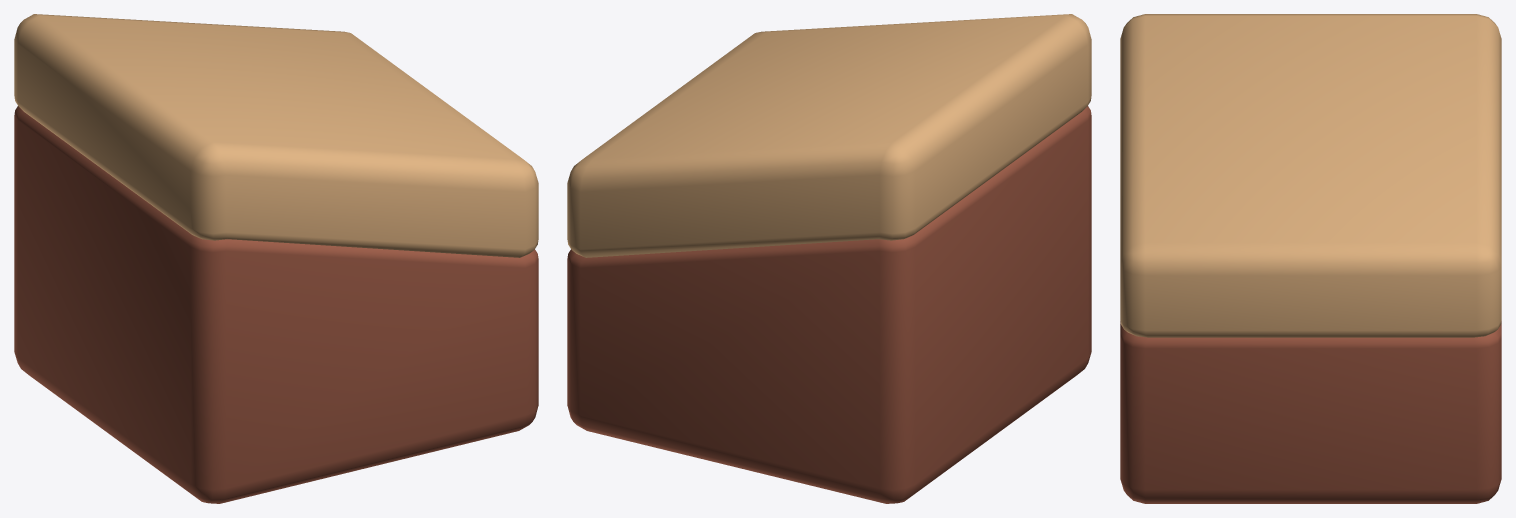
File: tileSlopeMediumHigh_desert-col.glb
3 renders of one model, left to right at view 1: azimuth 30°, elevation 25°; view 2: azimuth 150°, elevation 25°; view 3: azimuth 270°, elevation 25°, orthographic. The views are drawn at different scales.
Parts seen in each view (by area): view 1: tileSlopeMediumHigh_desert-col; view 2: tileSlopeMediumHigh_desert-col; view 3: tileSlopeMediumHigh_desert-col.
Boxes of the visible parts, x1=… form: tileSlopeMediumHigh_desert-col: x1=14, y1=14, x2=538, y2=503; tileSlopeMediumHigh_desert-col: x1=567, y1=14, x2=1091, y2=503; tileSlopeMediumHigh_desert-col: x1=1120, y1=14, x2=1501, y2=503.
Size of the model in its own units: 2 by 2 by 2.
